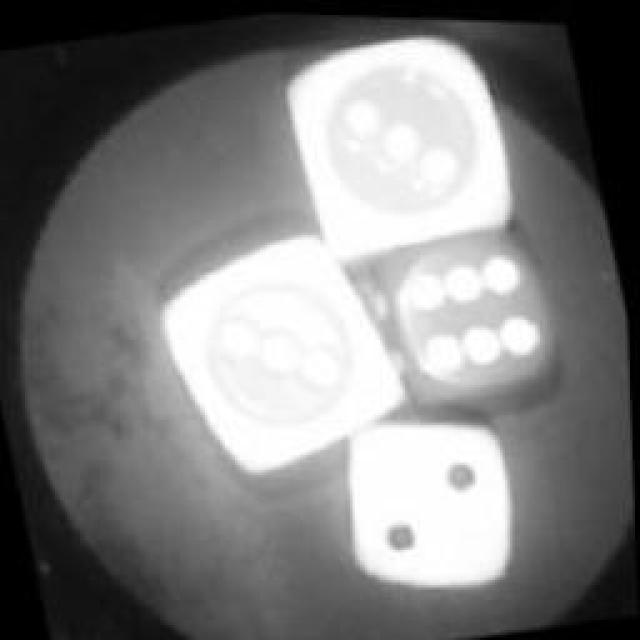dice_2: (315, 384, 545, 606)
dice_3: (140, 209, 412, 486), (274, 12, 528, 266)
dice_6: (369, 208, 579, 418)
